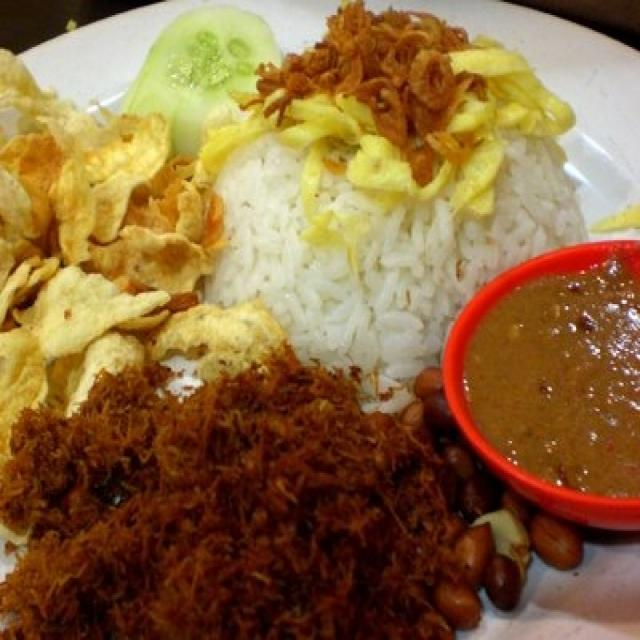米饭主食: (11, 26, 626, 606)
